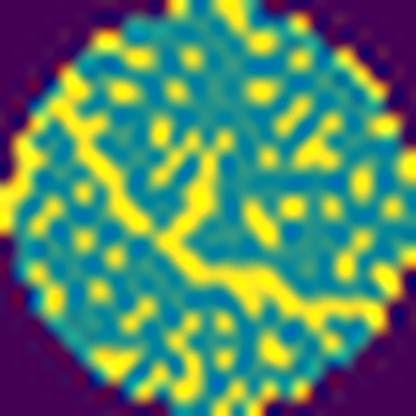Scratch: (47, 64, 384, 335)
